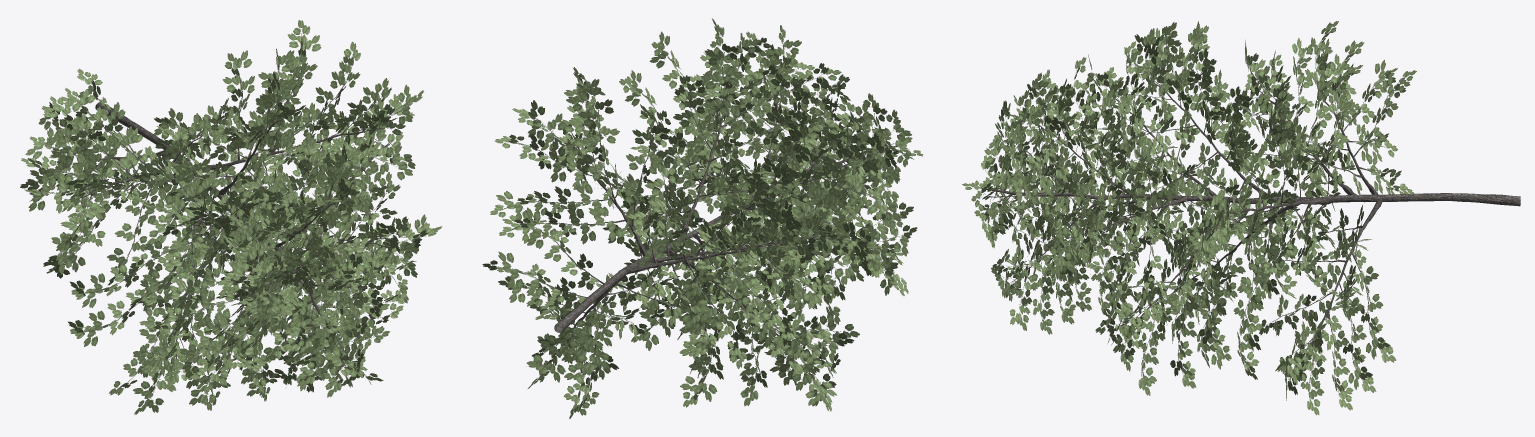
3 views of the same model, side by side, from view 1: azimuth 30°, elevation 25°; view 2: azimuth 150°, elevation 25°; view 3: azimuth 270°, elevation 25° (orthographic). The views are drawn at different scales.
Parts seen in each view (by area): view 1: BL02y; view 2: BL02y; view 3: BL02y.
Part boxes in pixels (bbox=[...]): BL02y: bbox=[20, 20, 441, 414]; BL02y: bbox=[482, 18, 923, 418]; BL02y: bbox=[962, 21, 1520, 415].
Size of the model in its own units: 5.42 by 4.88 by 6.51.
2 materials, 2 textured.
